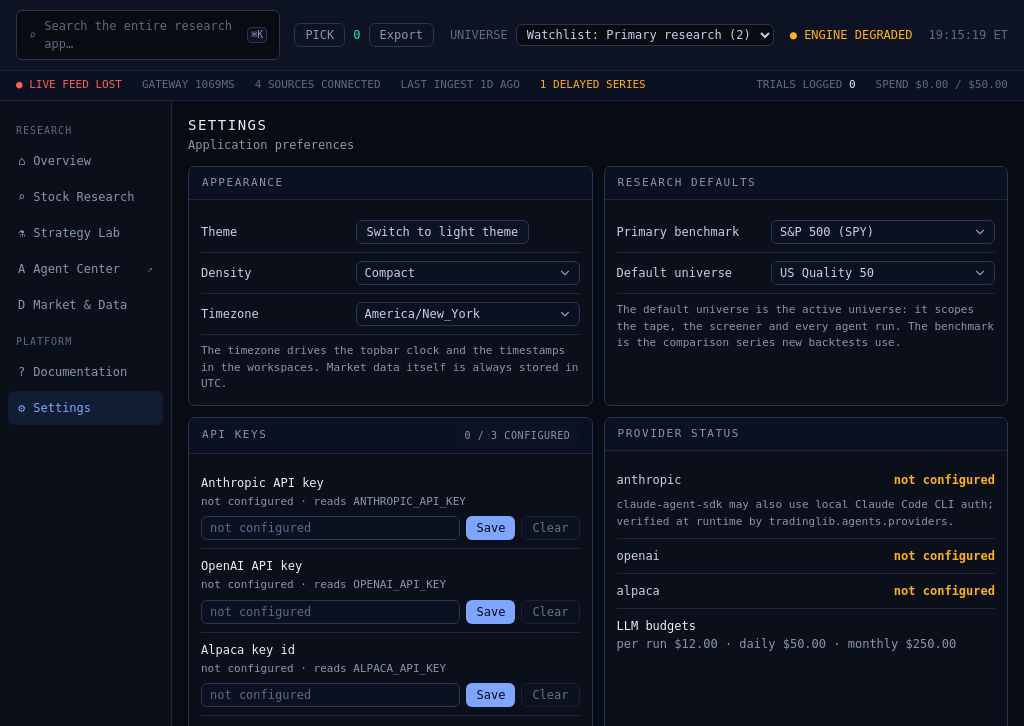
Test: Settings page › switches the theme, density and clock app-wide, saving one field at a time
Click the button "Switch to light theme" at (442, 232), box 356,220 -> 529,244
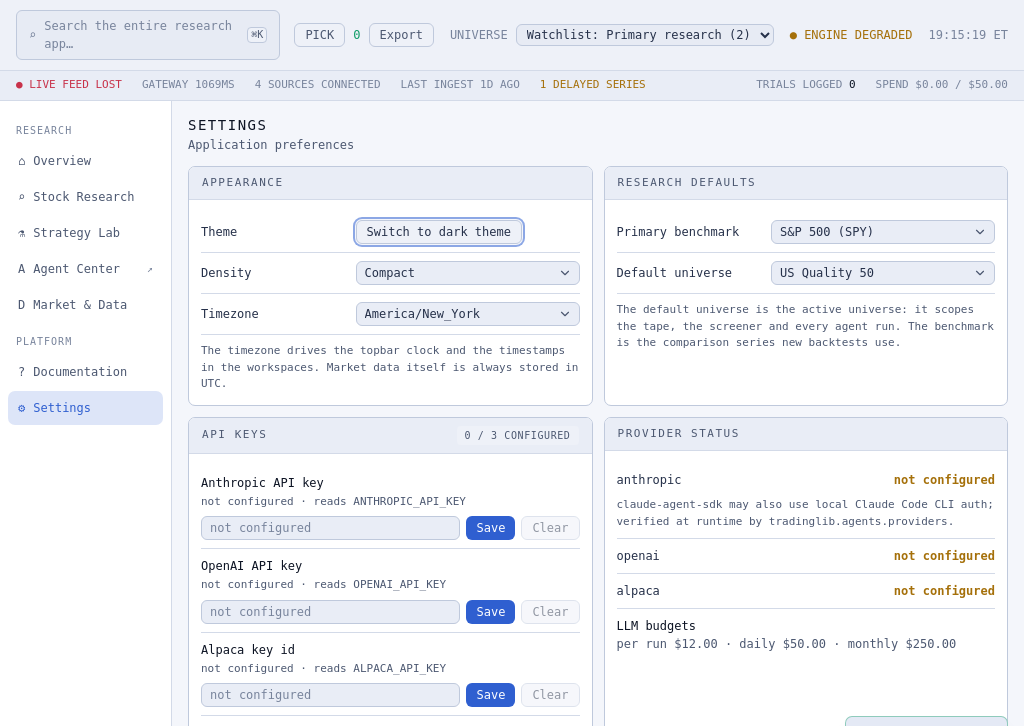
Now the button "Switch to dark theme" is shown, box 356,220 -> 522,244
Select "Comfortable" in the dropdown named "Density" at (468, 273), box 356,261 -> 580,285
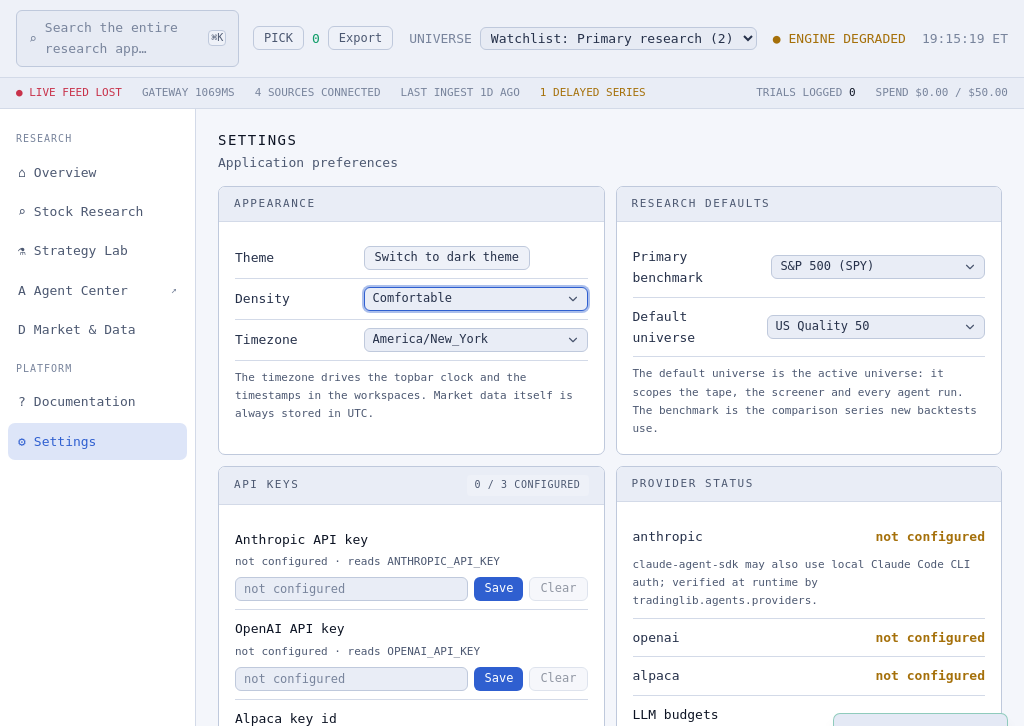
Select "UTC" in the dropdown named "Timezone" at (476, 340), box 364,328 -> 588,352
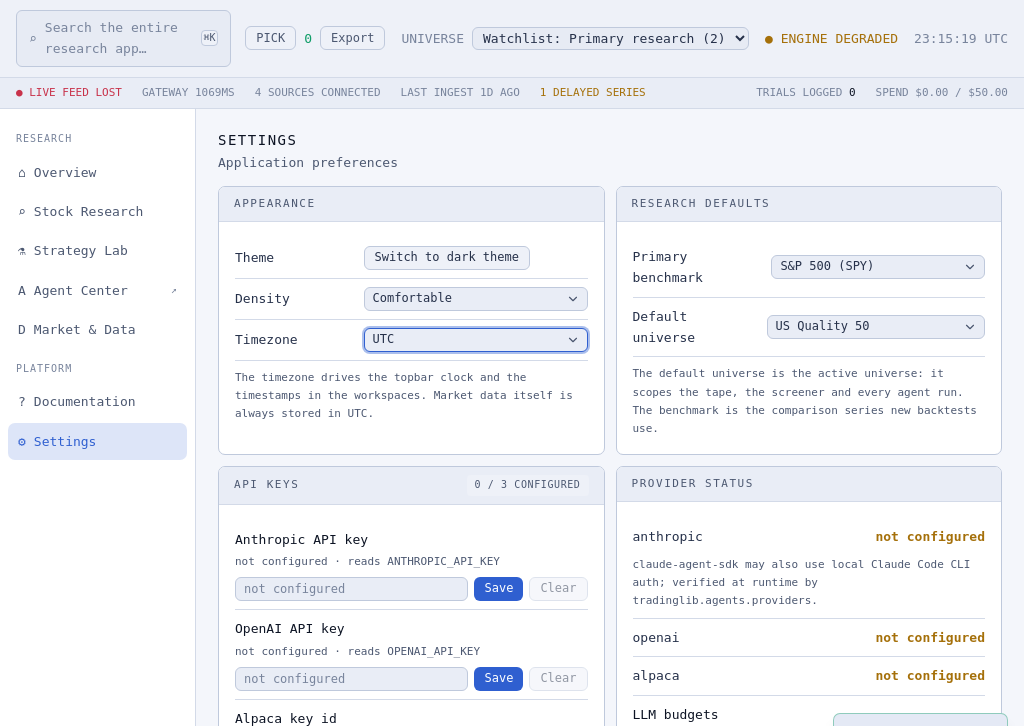
Now the text named "Clock" reads "23:15:19 UTC", box 914,28 -> 1008,49
